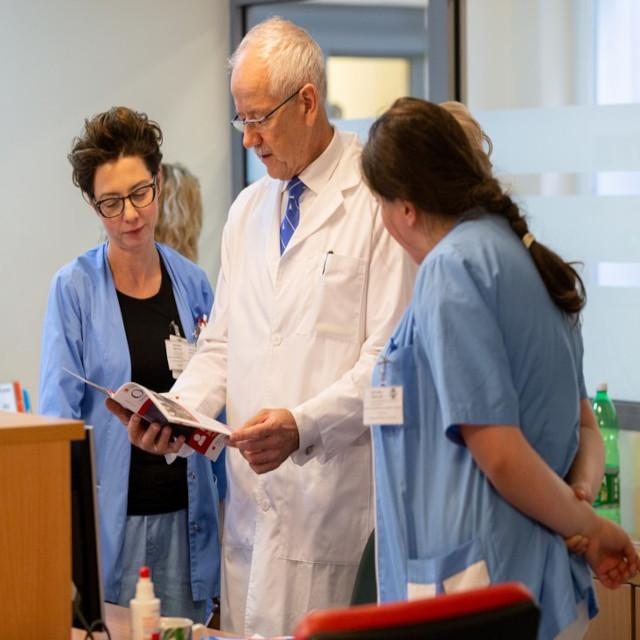kobieta: (356, 88, 637, 638), (37, 98, 225, 640)
mezczyzna: (196, 14, 420, 640)
